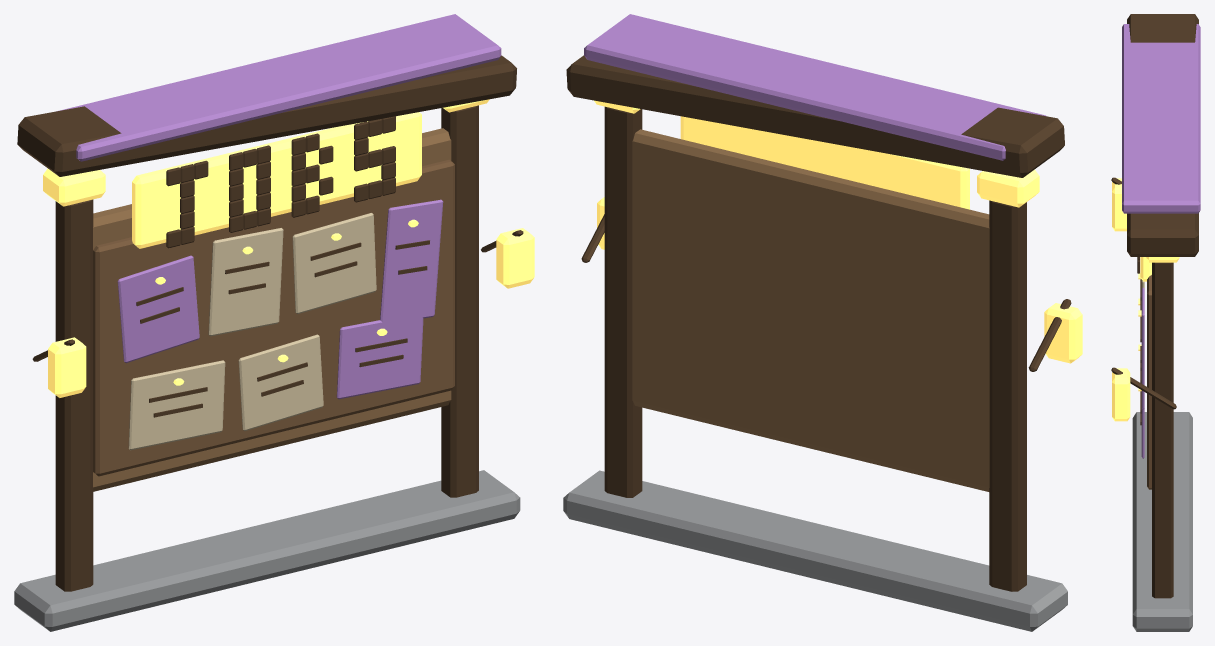
The model's file is jobs_board_violet.glb.
3 views of the same model, side by side, from view 1: azimuth 30°, elevation 25°; view 2: azimuth 150°, elevation 25°; view 3: azimuth 270°, elevation 25° (orthographic). The views are drawn at different scales.
Bounding box in the file's own units: 6.62 × 6.45 × 1.23.
